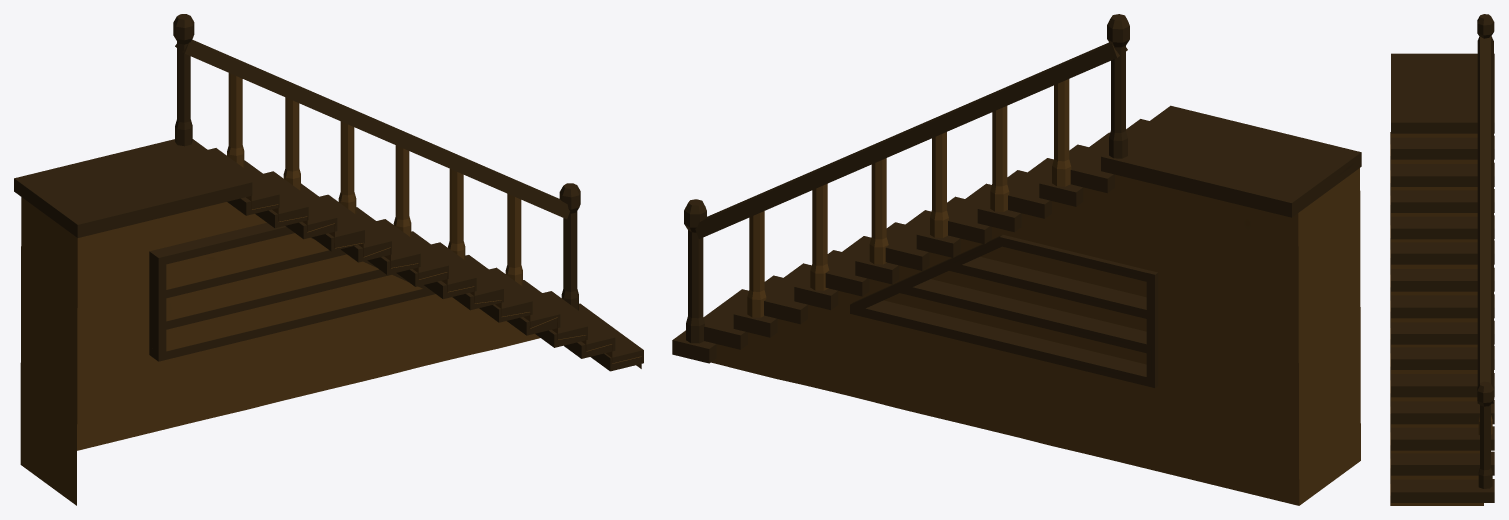
The model's file is Inn_Stairs.fbx.
3 renders of one model, left to right at view 1: azimuth 30°, elevation 25°; view 2: azimuth 150°, elevation 25°; view 3: azimuth 270°, elevation 25°, orthographic. The views are drawn at different scales.
Parts seen in each view (by area): view 1: Cube.122; view 2: Cube.122; view 3: Cube.122.
Boxes of the visible parts, <box> form: Cube.122: <box>14,14,643,505</box>; Cube.122: <box>672,14,1361,505</box>; Cube.122: <box>1390,14,1494,505</box>.
Size of the model in its own units: 596 by 410 by 117.
1 material, 1 textured.
